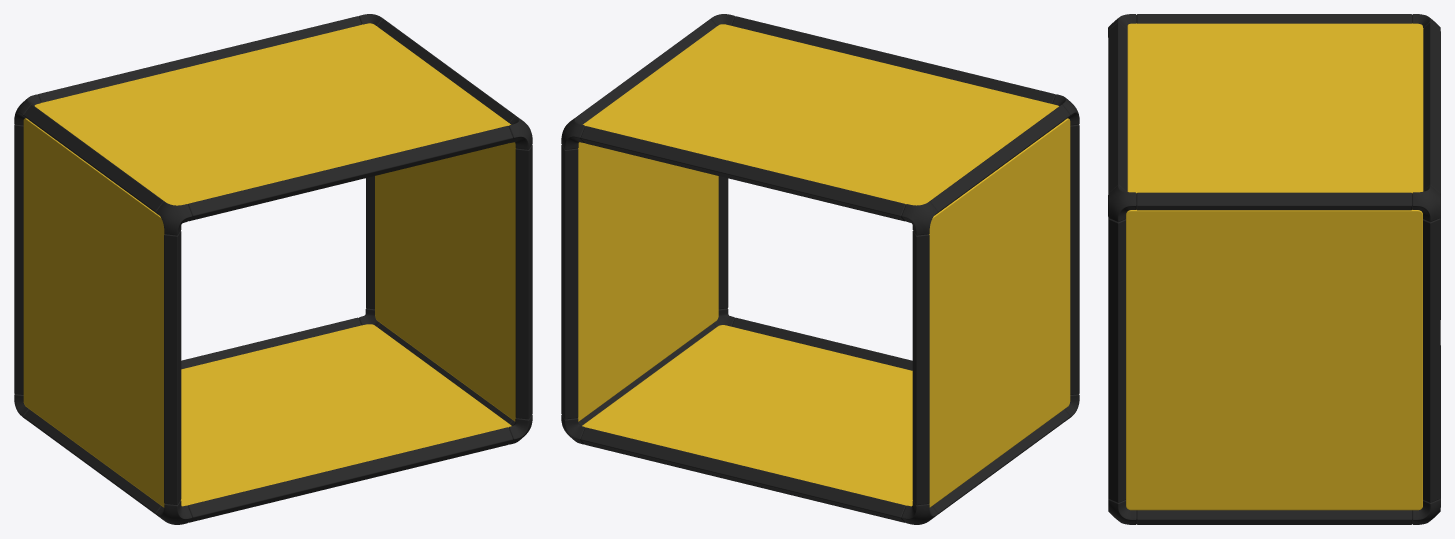
3 renders of one model, left to right at view 1: azimuth 30°, elevation 25°; view 2: azimuth 150°, elevation 25°; view 3: azimuth 270°, elevation 25°, orthographic. The views are drawn at different scales.
Parts seen in each view (by area): view 1: 523x374x420; view 2: 523x374x420; view 3: 523x374x420.
Part boxes in pixels (bbox=[...]): 523x374x420: bbox=[14, 14, 532, 524]; 523x374x420: bbox=[561, 14, 1079, 524]; 523x374x420: bbox=[1108, 14, 1440, 524].
Bounding box in the file's own units: 0.6007 × 0.4976 × 0.4513.
